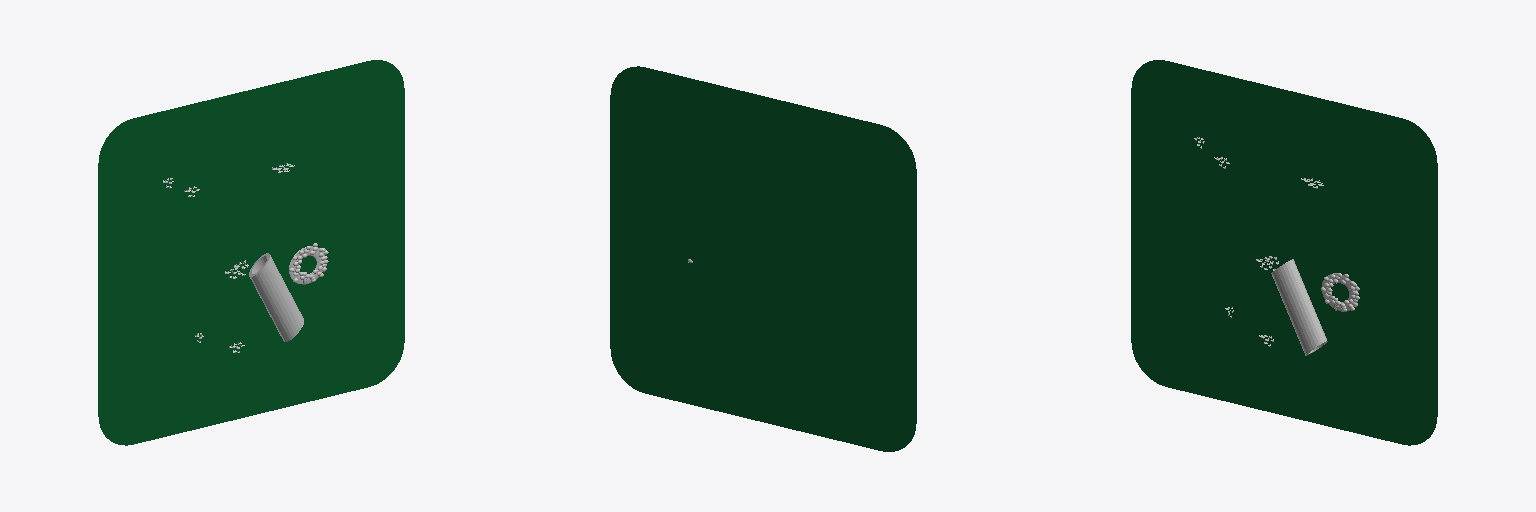
File: campground.obj
3 renders of one model, left to right at view 1: azimuth 30°, elevation 25°; view 2: azimuth 150°, elevation 25°; view 3: azimuth 330°, elevation 25°, orthographic.
Parts seen in each view (by area): view 1: obj_0; view 2: obj_0; view 3: obj_0.
Boxes of the visible parts, x1,y1,x2,y2 form: obj_0: [98, 60, 404, 445]; obj_0: [610, 66, 916, 451]; obj_0: [1131, 60, 1437, 445].
Bounding box in the file's own units: 314 × 320 × 20.